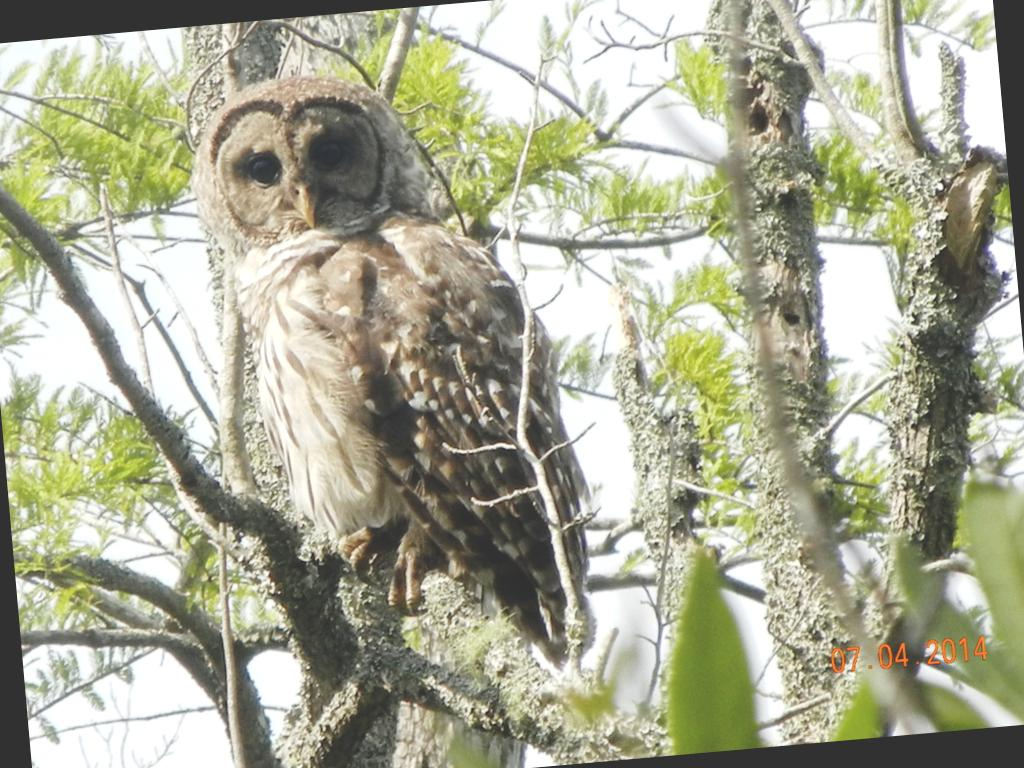Owl: (177, 51, 617, 768)
